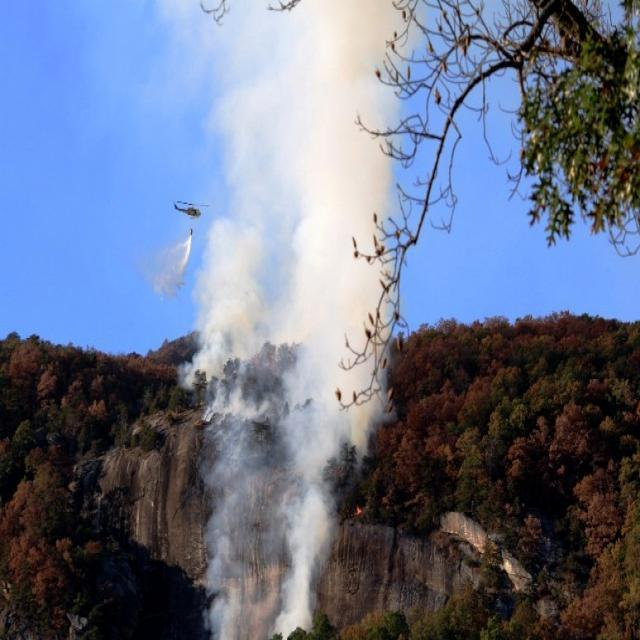Smoke: (167, 0, 425, 634)
